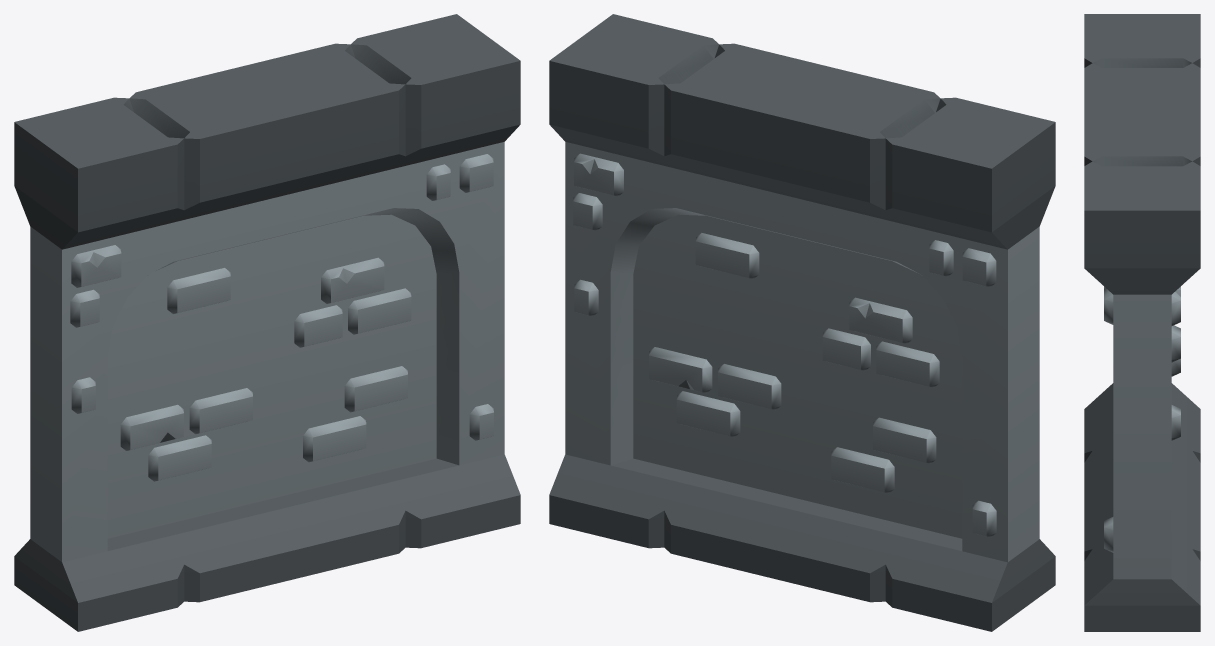
The model's file is wall_arched.gltf.
3 renders of one model, left to right at view 1: azimuth 30°, elevation 25°; view 2: azimuth 150°, elevation 25°; view 3: azimuth 270°, elevation 25°, orthographic. The views are drawn at different scales.
Visible parts, largest first — view 1: wall_arched; view 2: wall_arched; view 3: wall_arched.
Boxes of the visible parts, x1,y1,x2,y2 form: wall_arched: (14, 14, 520, 631); wall_arched: (549, 14, 1055, 631); wall_arched: (1084, 14, 1200, 631).
Size of the model in its own units: 4 by 4 by 1.
Materials: 1 (1 with a texture image).
